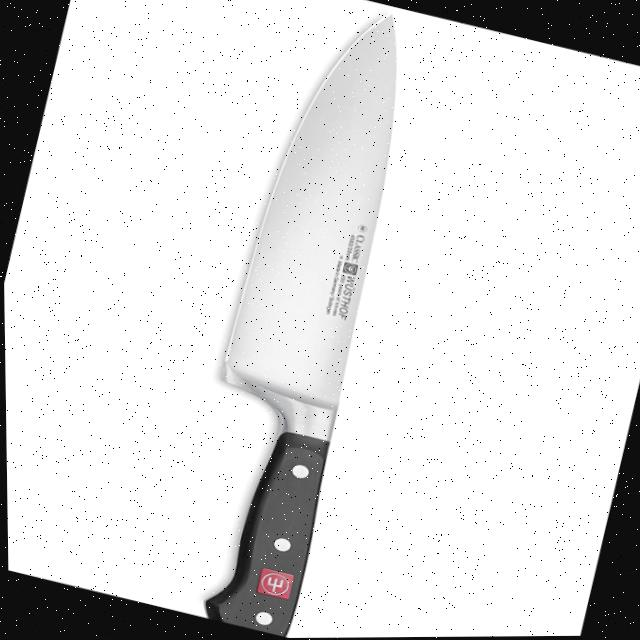knife: (151, 0, 448, 639)
